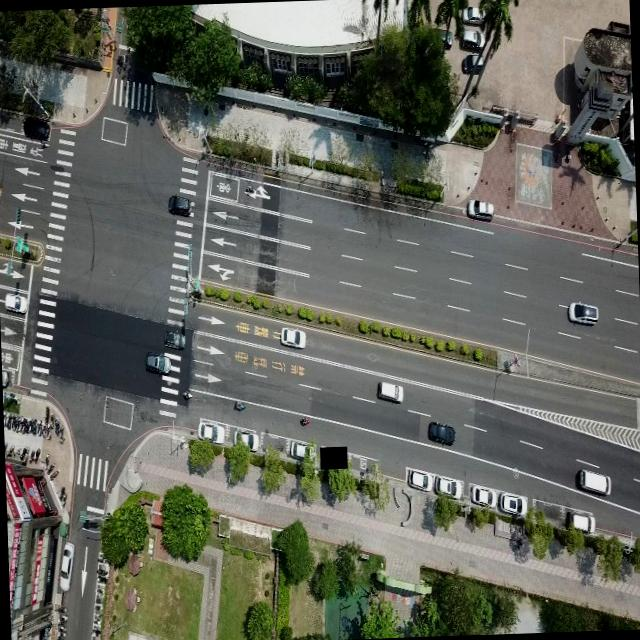bike: (115, 51, 124, 75), (298, 414, 310, 427), (59, 492, 68, 508), (7, 443, 16, 459), (233, 400, 246, 411), (33, 447, 41, 464), (43, 404, 50, 423), (96, 575, 108, 586), (244, 182, 254, 195), (20, 446, 28, 461), (59, 424, 64, 446), (57, 614, 69, 623), (41, 420, 47, 438), (46, 420, 51, 441), (28, 449, 36, 462), (44, 454, 50, 471), (36, 418, 42, 435), (94, 595, 104, 605), (94, 602, 104, 612), (182, 390, 193, 399), (96, 567, 107, 576), (90, 627, 101, 636), (46, 462, 54, 474), (92, 618, 104, 626), (11, 414, 17, 430), (49, 470, 58, 480), (54, 418, 59, 436), (59, 486, 65, 500), (6, 414, 12, 428), (57, 623, 66, 632), (56, 605, 66, 613), (96, 588, 105, 596), (56, 630, 66, 637), (55, 636, 65, 640)
car: (467, 476, 498, 512), (22, 113, 52, 145), (57, 540, 75, 592), (577, 467, 609, 496), (436, 470, 464, 501), (197, 416, 225, 446), (500, 490, 529, 518), (564, 508, 595, 534), (567, 300, 598, 326), (426, 420, 456, 446), (284, 436, 312, 462), (232, 426, 259, 452), (407, 466, 432, 494), (376, 379, 403, 404), (465, 197, 493, 221), (144, 350, 170, 375), (279, 326, 306, 350), (168, 192, 194, 216), (4, 291, 26, 314), (460, 52, 483, 74), (428, 28, 453, 48), (163, 328, 185, 350), (460, 5, 484, 24), (462, 27, 482, 49)
